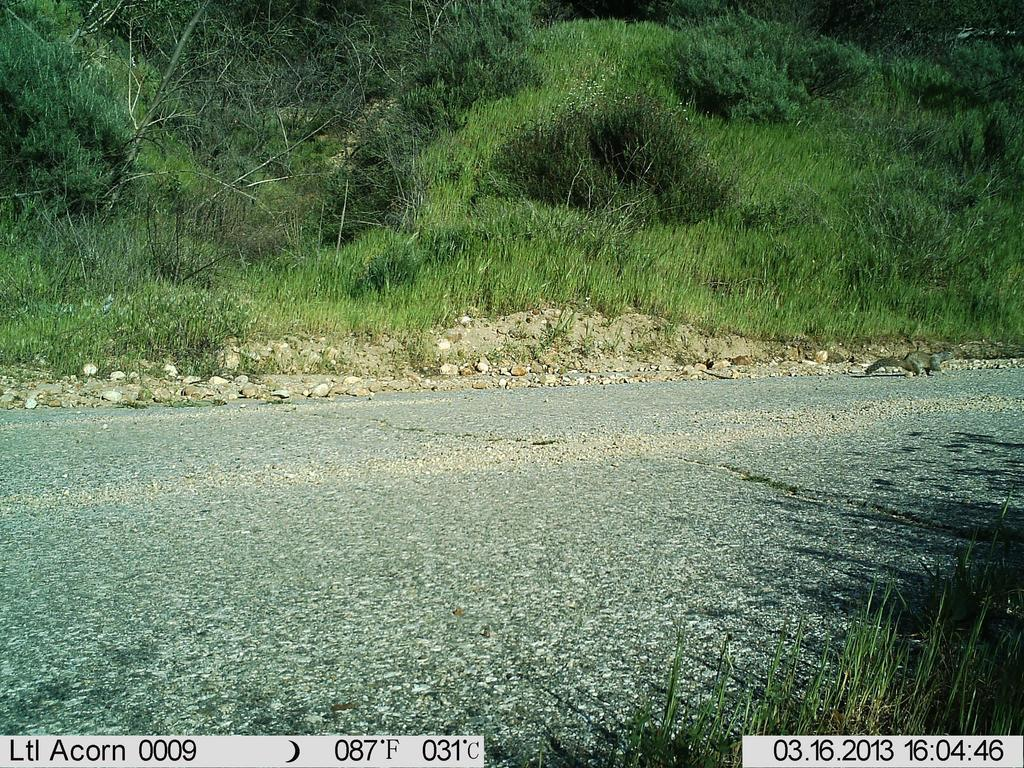squirrel: (855, 336, 961, 386)
